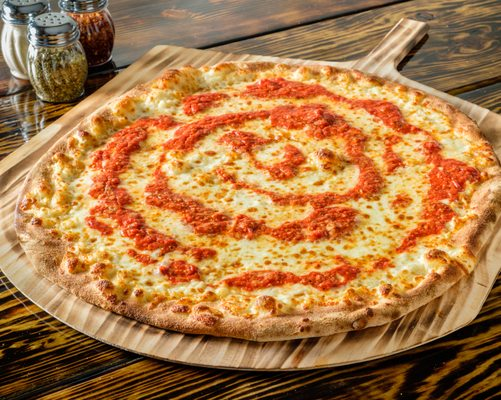burger: (25, 0, 89, 105), (58, 0, 116, 70)
curry: (2, 1, 498, 400)
sandwich: (14, 58, 499, 340)
